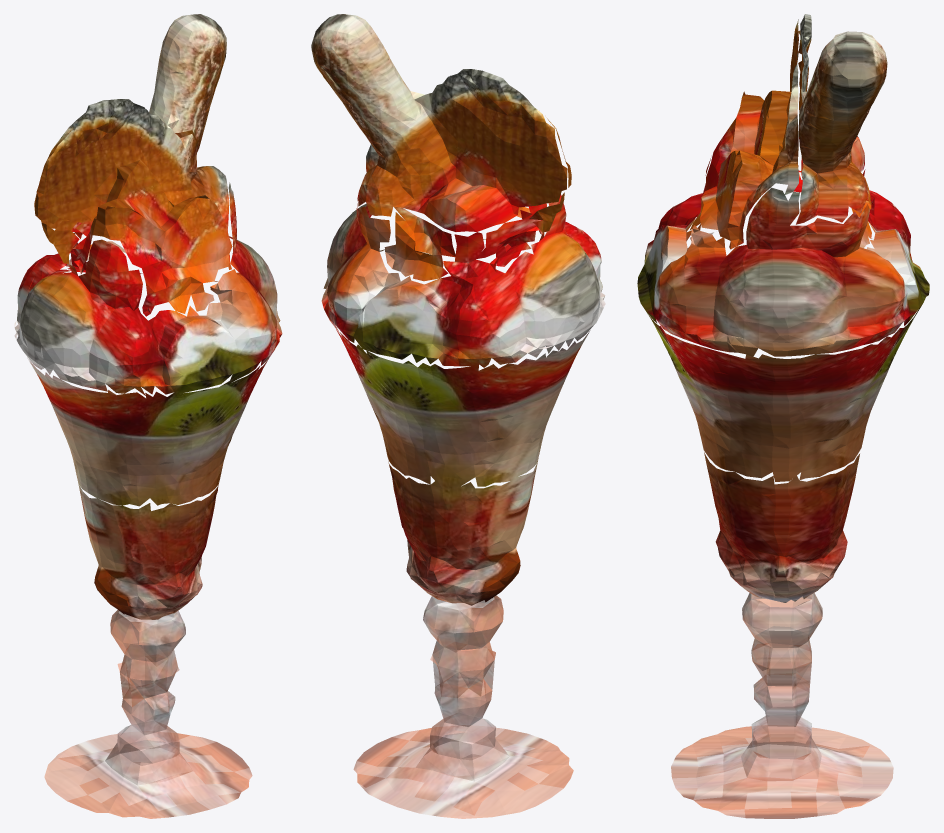
The model's file is StrawberryParfait.gltf.
3 renders of one model, left to right at view 1: azimuth 30°, elevation 25°; view 2: azimuth 150°, elevation 25°; view 3: azimuth 270°, elevation 25°, orthographic. The views are drawn at different scales.
Visible parts, largest first — view 1: Berry, Cream, Stem, Layer, Sauce, Wafer; view 2: Wafer, Berry, Stem, Layer, Sauce, Cream; view 3: Berry, Stem, Layer, Sauce, Wafer, Cream.
Boxes of the visible parts, x1,y1,x2,y2 form: Berry: [14, 182, 282, 395]; Cream: [35, 102, 232, 316]; Stem: [44, 610, 252, 818]; Layer: [28, 358, 268, 506]; Sauce: [78, 481, 219, 619]; Wafer: [34, 14, 226, 238]; Wafer: [311, 14, 567, 231]; Berry: [321, 192, 605, 367]; Stem: [353, 595, 573, 818]; Layer: [336, 329, 590, 488]; Sauce: [388, 458, 538, 605]; Cream: [384, 75, 571, 281]; Berry: [637, 158, 929, 356]; Stem: [671, 593, 893, 818]; Layer: [648, 315, 914, 481]; Sauce: [704, 452, 859, 602]; Wafer: [796, 14, 887, 224]; Cream: [690, 19, 871, 249].
Bounding box in the file's own units: 1.04 × 3 × 1.02.
Materials: 6 (6 with a texture image).
